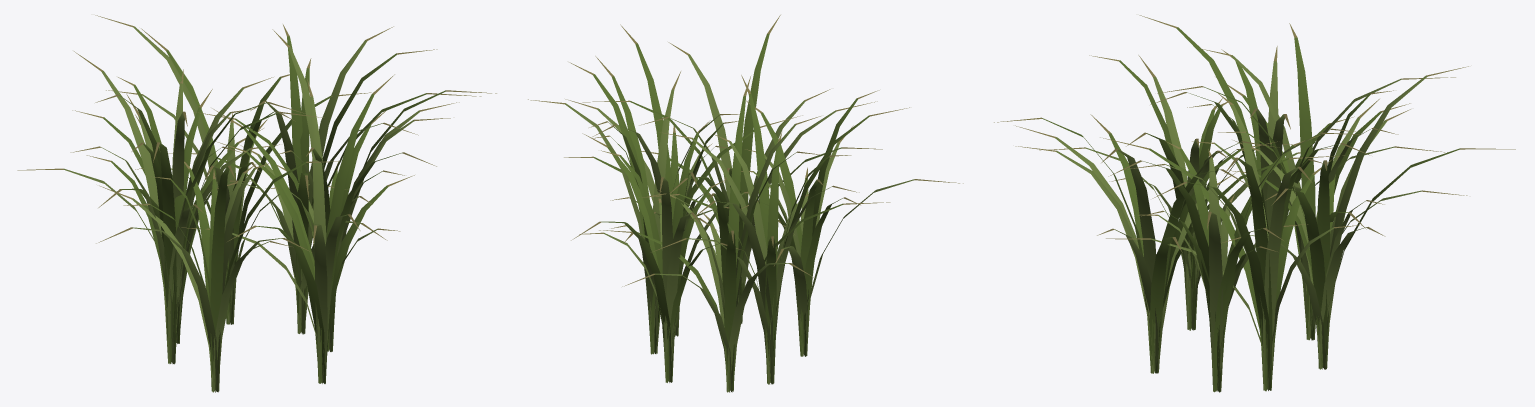
The model's file is sedge.glb.
3 renders of one model, left to right at view 1: azimuth 30°, elevation 25°; view 2: azimuth 150°, elevation 25°; view 3: azimuth 270°, elevation 25°, orthographic. The views are drawn at different scales.
Visible parts, largest first — view 1: MV_sedge; view 2: MV_sedge; view 3: MV_sedge.
Boxes of the visible parts, x1,y1,x2,y2 form: MV_sedge: (17,15,496,392); MV_sedge: (528,15,963,392); MV_sedge: (994,15,1515,392).
Size of the model in its own units: 0.7974 by 0.52 by 0.9133.
